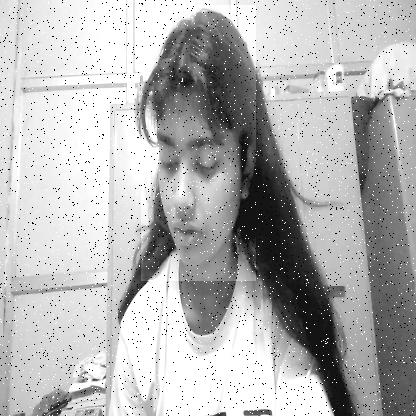Distracted: (141, 6, 256, 282)
